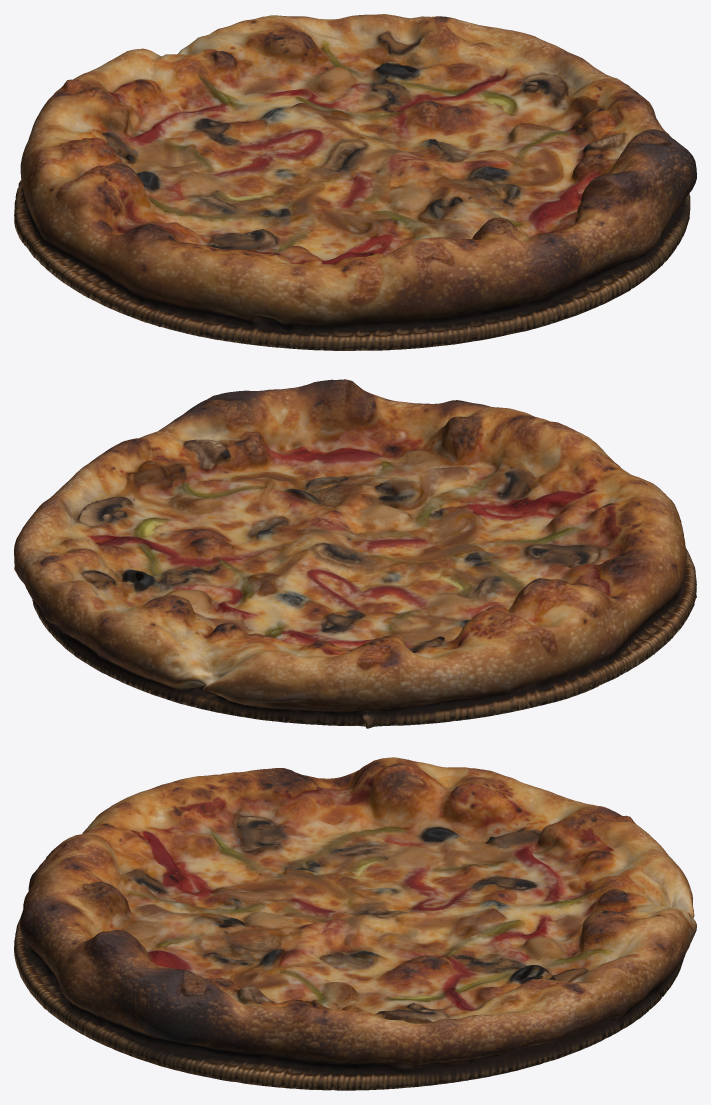
Rendered from Very_veggie_dc_deck_(round_pie).FBX.
3 views of the same model, one above another, from view 1: azimuth 30°, elevation 25°; view 2: azimuth 150°, elevation 25°; view 3: azimuth 270°, elevation 25° (orthographic).
Parts seen in each view (by area): view 1: Very_veggie_dc_deck_(round_pie); view 2: Very_veggie_dc_deck_(round_pie); view 3: Very_veggie_dc_deck_(round_pie).
Boxes of the visible parts, <box> form: Very_veggie_dc_deck_(round_pie): <box>14,14,696,350</box>; Very_veggie_dc_deck_(round_pie): <box>14,379,696,728</box>; Very_veggie_dc_deck_(round_pie): <box>14,757,696,1090</box>.
Bounding box in the file's own units: 5.85 × 0.8119 × 5.93.
Materials: 1 (1 with a texture image).
